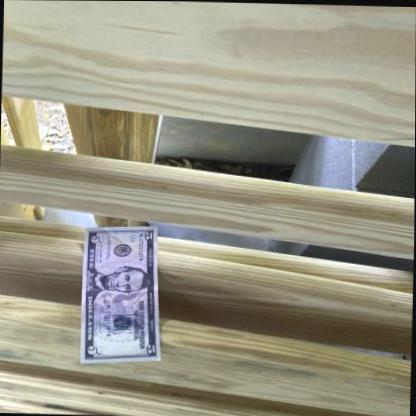five-front: (80, 224, 161, 363)
